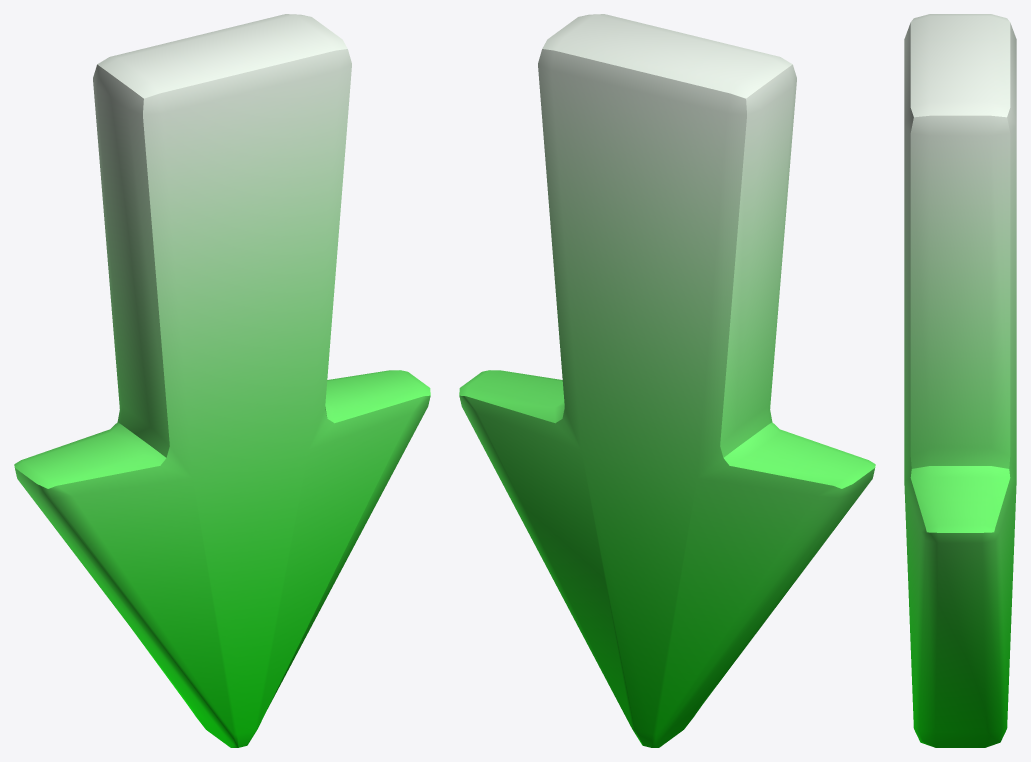
Rendered from Arrow.FBX.
3 views of the same model, side by side, from view 1: azimuth 30°, elevation 25°; view 2: azimuth 150°, elevation 25°; view 3: azimuth 270°, elevation 25° (orthographic).
Visible parts, largest first — view 1: Arrow; view 2: Arrow; view 3: Arrow.
Part boxes in pixels (bbox=[...]): Arrow: bbox=[14, 14, 430, 747]; Arrow: bbox=[459, 14, 875, 747]; Arrow: bbox=[904, 14, 1016, 747].
Bounding box in the file's own units: 38.68 × 64.84 × 9.61.
Materials: 1 (1 with a texture image).
